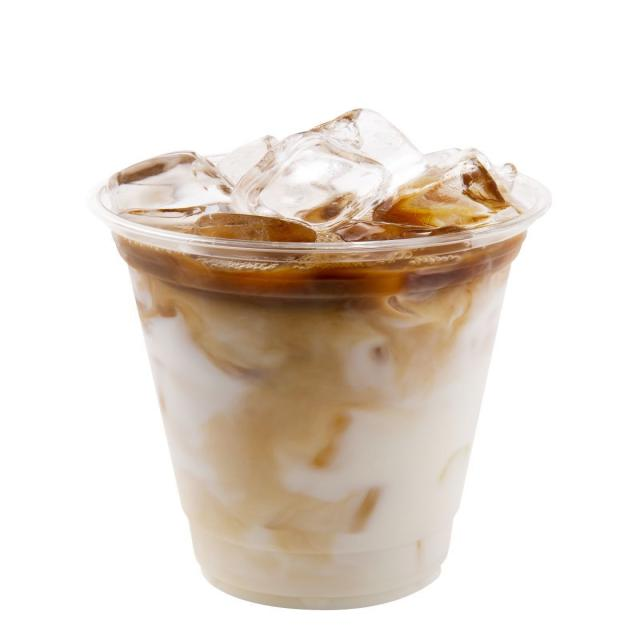plastic cup: (91, 107, 552, 609)
